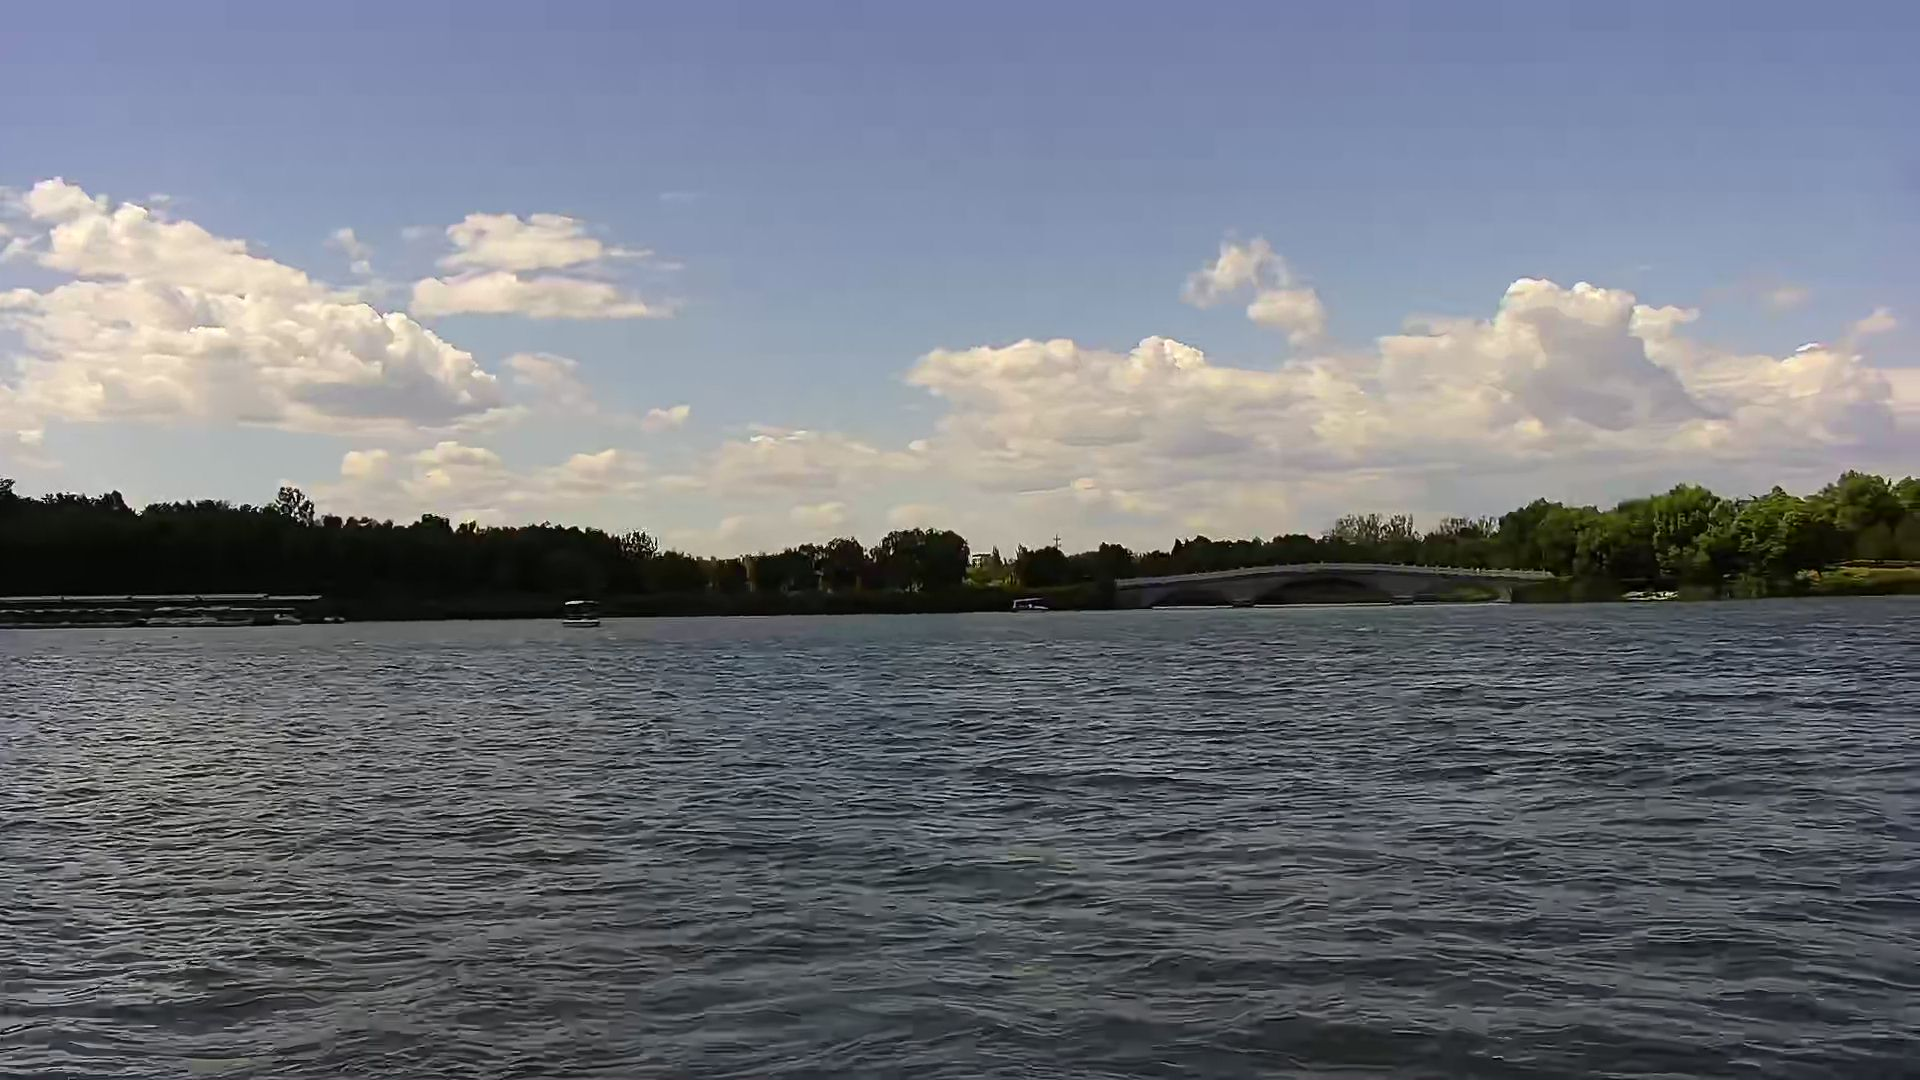boat: (556, 588, 607, 637)
bridge: (1120, 562, 1557, 612)
harbor: (1, 589, 328, 634)
